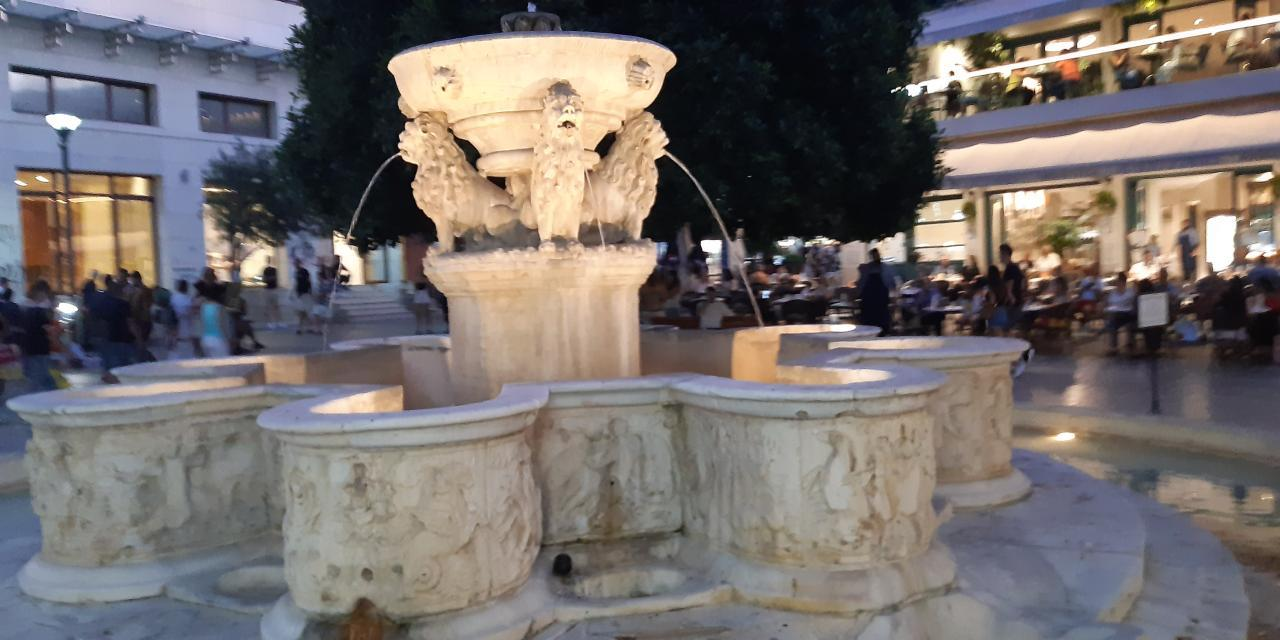Liontaria: (14, 44, 1036, 610)
